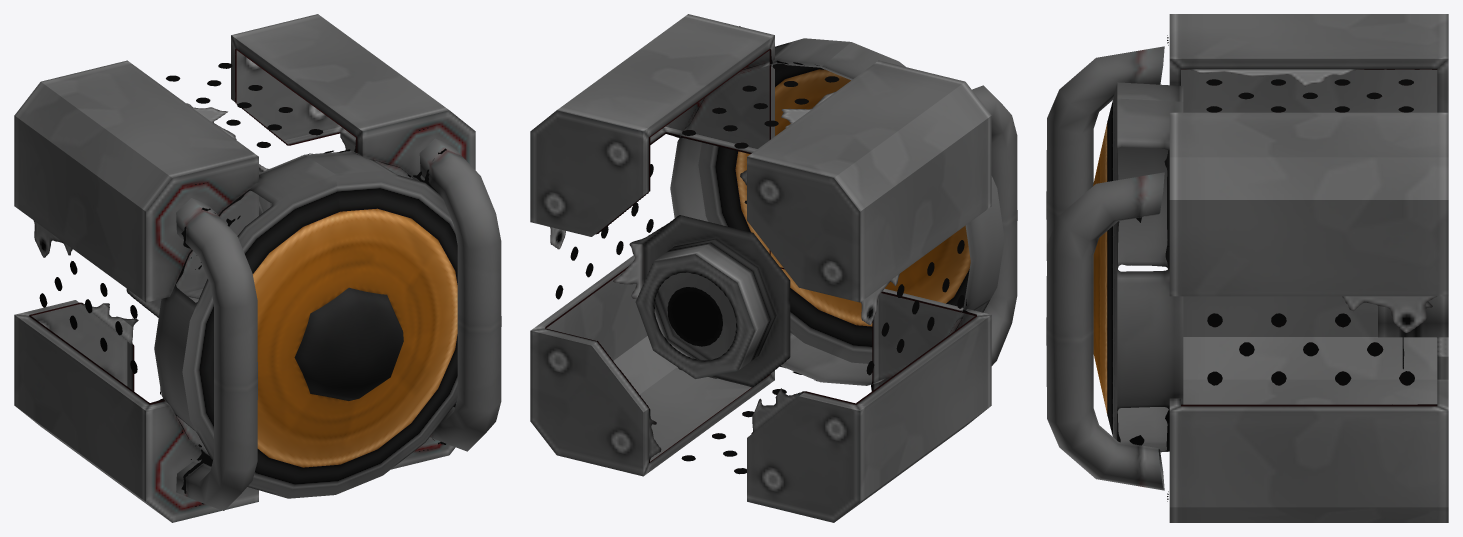
The model's file is obj_interactive_soundcube_on.fbx.
3 views of the same model, side by side, from view 1: azimuth 30°, elevation 25°; view 2: azimuth 150°, elevation 25°; view 3: azimuth 270°, elevation 25° (orthographic). The views are drawn at different scales.
Parts seen in each view (by area): view 1: LP_on; view 2: LP_on; view 3: LP_on.
Boxes of the visible parts, x1=… form: LP_on: x1=14, y1=14, x2=501, y2=522; LP_on: x1=530, y1=14, x2=1017, y2=522; LP_on: x1=1046, y1=14, x2=1448, y2=522.
Size of the model in its own units: 0.9985 by 0.9985 by 0.9956.
